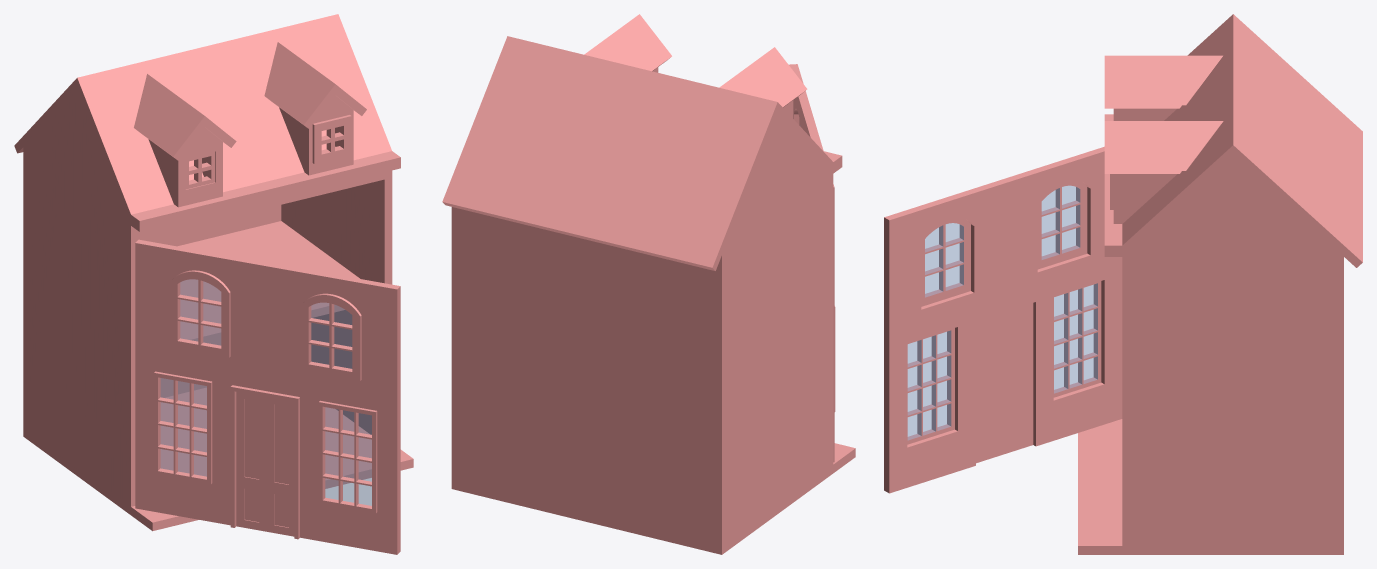
The picture shows the model from 3 angles, left to right: view 1: azimuth 30°, elevation 25°; view 2: azimuth 150°, elevation 25°; view 3: azimuth 270°, elevation 25°; orthographic projection. The views are drawn at different scales.
Parts seen in each view (by area): view 1: 74553, 74702, 74709, 74552, 74705, 74703, 74704, 74551, 74550, 74710, 74549, 74548 (+13 smaller); view 2: 74706, 74708, 74702, 74703, 74709, 74705, 74728, 74724, 74553, 74729, 74725; view 3: 74705, 74553, 74708, 74552, 74709, 74703, 74729, 74725, 74550, 74551, 74549, 74548 (+3 smaller).
Boxes of the visible parts, x1=… form: 74553: x1=135, y1=239, x2=400, y2=554; 74702: x1=23, y1=89, x2=138, y2=506; 74709: x1=74, y1=14, x2=391, y2=224; 74552: x1=230, y1=385, x2=299, y2=539; 74705: x1=281, y1=170, x2=392, y2=434; 74703: x1=23, y1=387, x2=413, y2=531; 74704: x1=177, y1=221, x2=359, y2=343; 74551: x1=318, y1=400, x2=377, y2=513; 74550: x1=154, y1=371, x2=212, y2=484; 74710: x1=131, y1=151, x2=400, y2=231; 74549: x1=169, y1=270, x2=230, y2=357; 74548: x1=300, y1=293, x2=361, y2=381; 74706: x1=459, y1=209, x2=714, y2=543; 74708: x1=442, y1=44, x2=777, y2=270; 74702: x1=714, y1=114, x2=833, y2=545; 74703: x1=451, y1=443, x2=855, y2=554; 74709: x1=504, y1=36, x2=833, y2=172; 74705: x1=451, y1=207, x2=459, y2=481; 74728: x1=731, y1=54, x2=807, y2=107; 74724: x1=595, y1=21, x2=671, y2=71; 74553: x1=789, y1=64, x2=834, y2=462; 74729: x1=719, y1=47, x2=779, y2=90; 74725: x1=584, y1=14, x2=644, y2=57; 74705: x1=1122, y1=156, x2=1343, y2=545; 74553: x1=884, y1=146, x2=1122, y2=493; 74708: x1=1233, y1=20, x2=1362, y2=267; 74552: x1=976, y1=303, x2=1033, y2=463; 74709: x1=1122, y1=14, x2=1239, y2=256; 74703: x1=1078, y1=419, x2=1343, y2=554; 74729: x1=1104, y1=55, x2=1222, y2=108; 74725: x1=1104, y1=121, x2=1223, y2=173; 74550: x1=1053, y1=281, x2=1101, y2=397; 74551: x1=907, y1=328, x2=954, y2=444; 74549: x1=1037, y1=179, x2=1087, y2=269; 74548: x1=921, y1=217, x2=970, y2=306.
Bounding box in the file's own units: 0.35 × 0.5101 × 0.5401.
